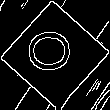O_E: (28, 32, 82, 78)
